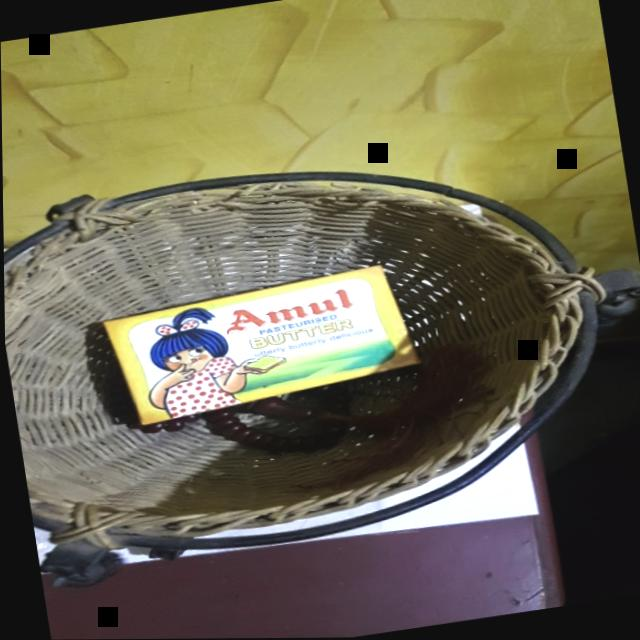butter: (88, 254, 436, 433)
